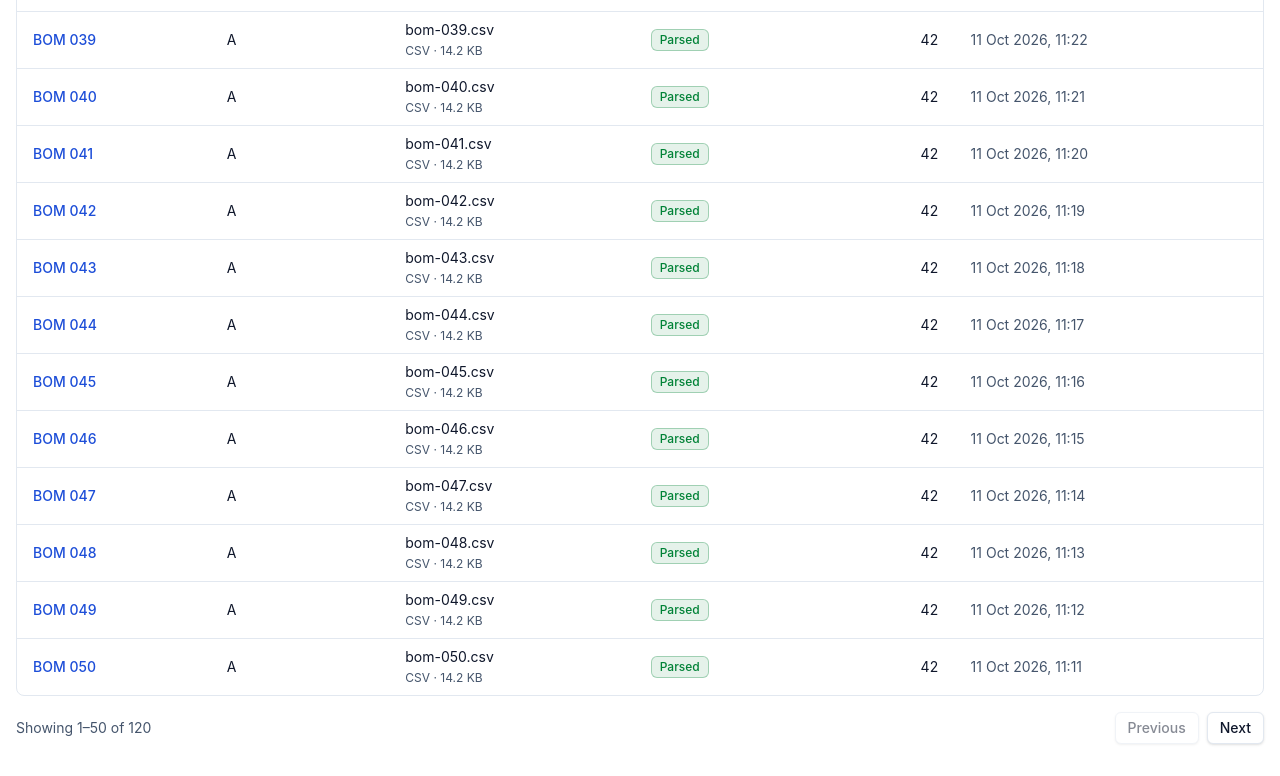
Scenario: BomsPage list › pages with Next and Previous, keeping the offset in the URL
(page scrolled)
Expected: the text "Showing 1–50 of 120" is shown, [16,718,151,738]
Expected: the button "Previous" is disabled, [1115,712,1199,744]
Click the button "Next".
click(1235, 728)  # box [1207,712,1264,744]
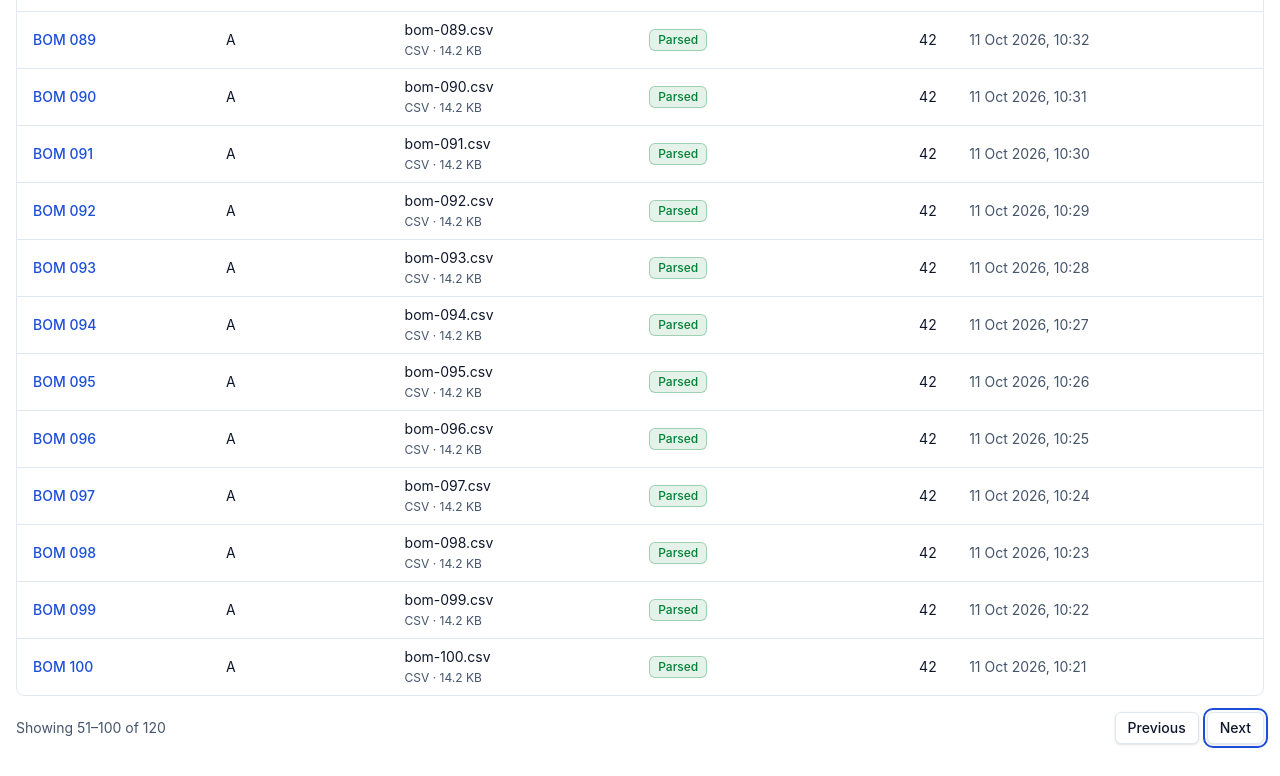
Expected: the text "Showing 51–100 of 120" is shown, [16,718,166,738]
Expected: the link "BOM 050" is gone
Click the button "Next".
click(1235, 728)  # box [1207,712,1264,744]
(page scrolled)
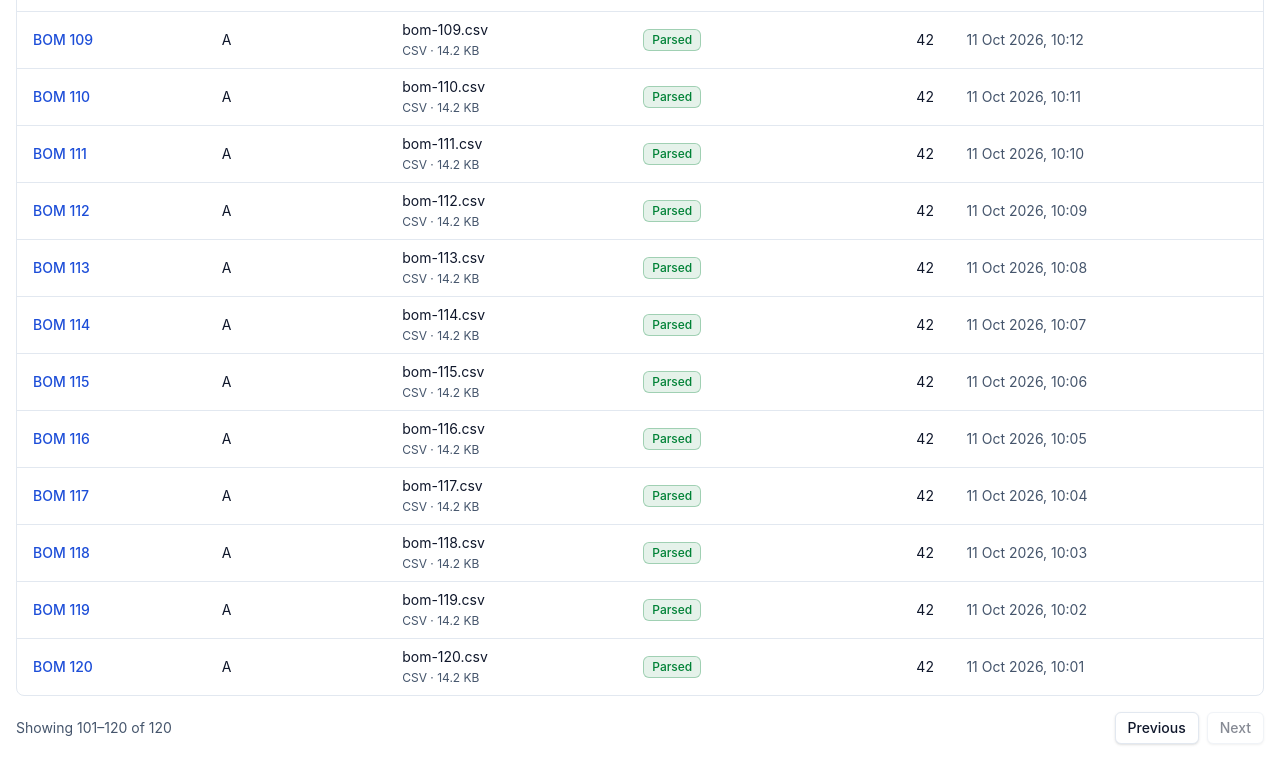
Expected: the text "Showing 101–120 of 120" is shown, [16,718,172,738]
Expected: the button "Next" is disabled, [1207,712,1264,744]
Click the button "Previous".
click(1157, 728)  # box [1115,712,1199,744]
(page scrolled)
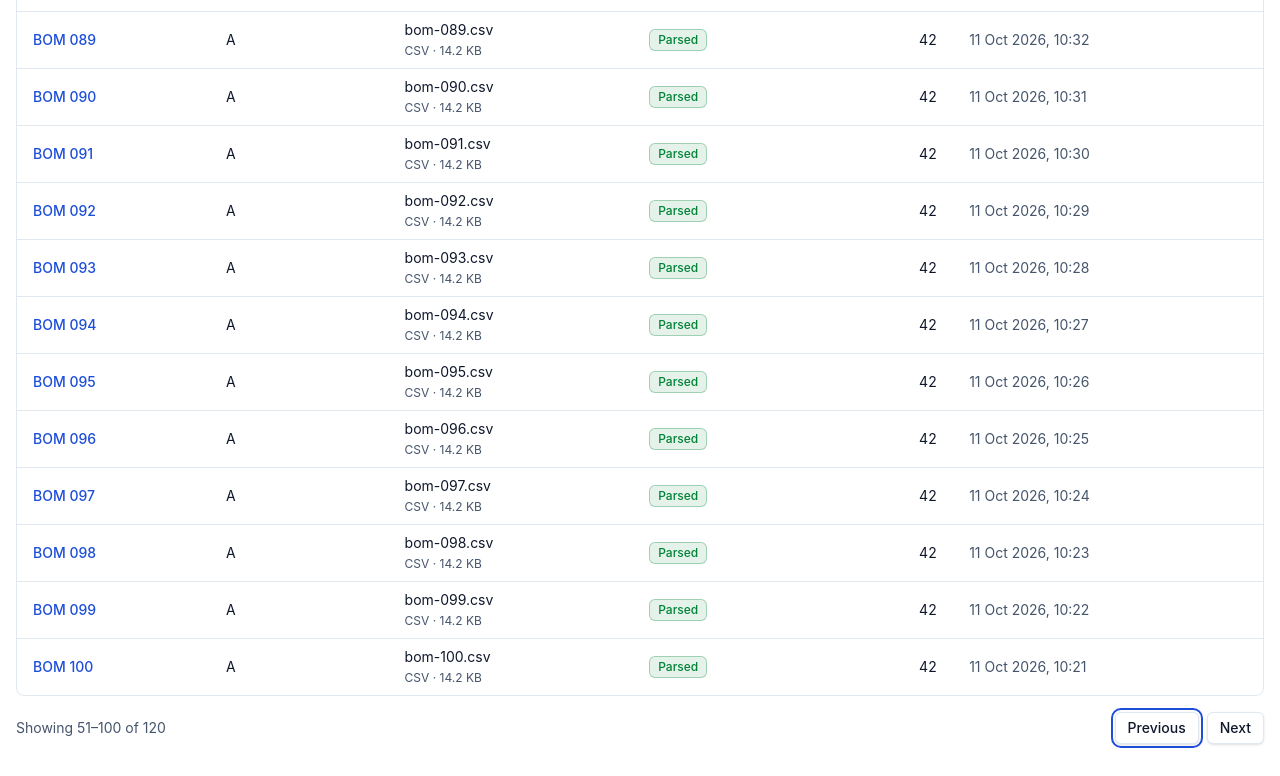
Expected: the text "Showing 51–100 of 120" is shown, [16,718,166,738]
